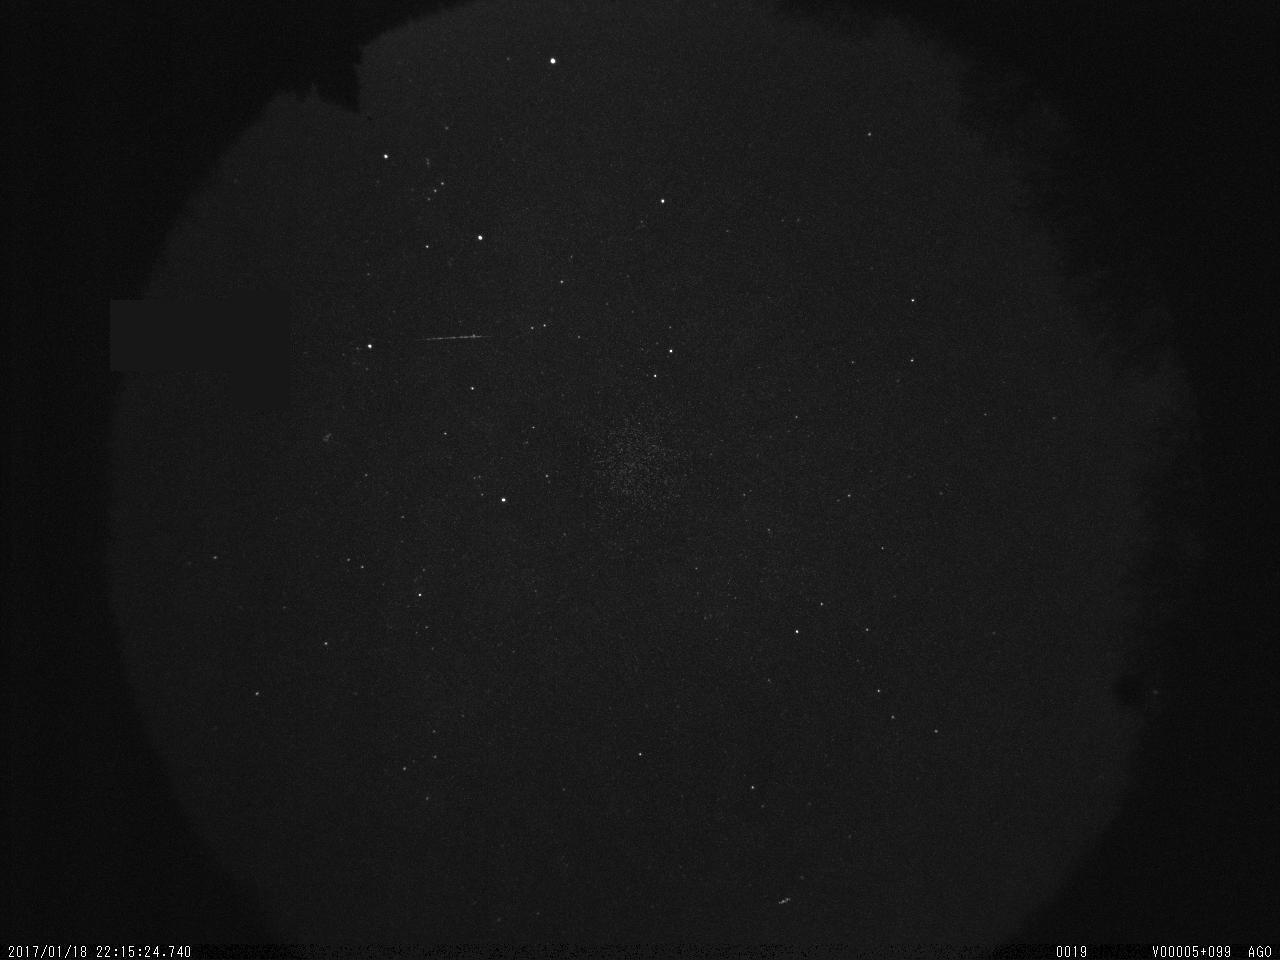meteor: (414, 327, 499, 352)
